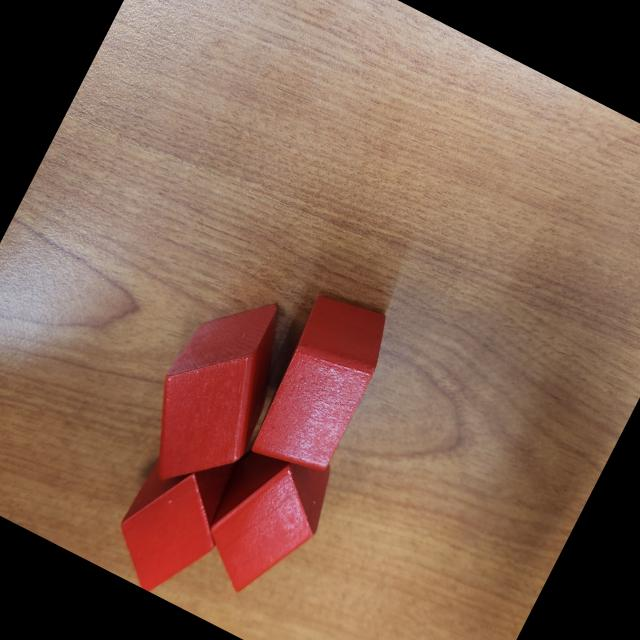red: (120, 272, 312, 511), (239, 282, 402, 486), (182, 426, 348, 618), (102, 438, 248, 606)
